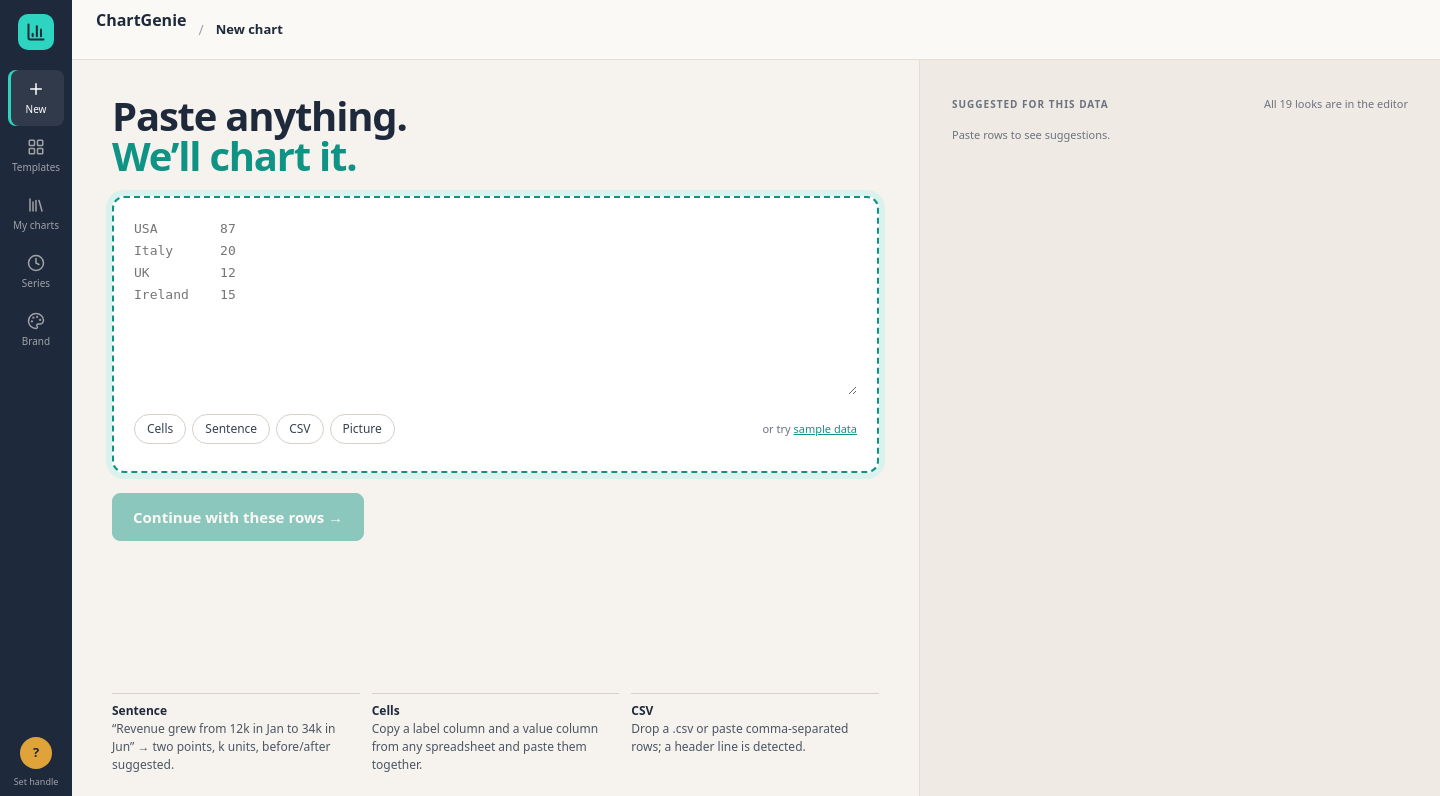
Test: Intake (desktop) › shows guidance without rows and fills the sample on request
The width and height of the screenshot is (1440, 796).
Expected: the text "Paste rows to see suggestions." is shown, 952,126 -> 1110,142
Click the button "sample data". click: coordinates (825, 429)
box: 794,407 -> 857,451
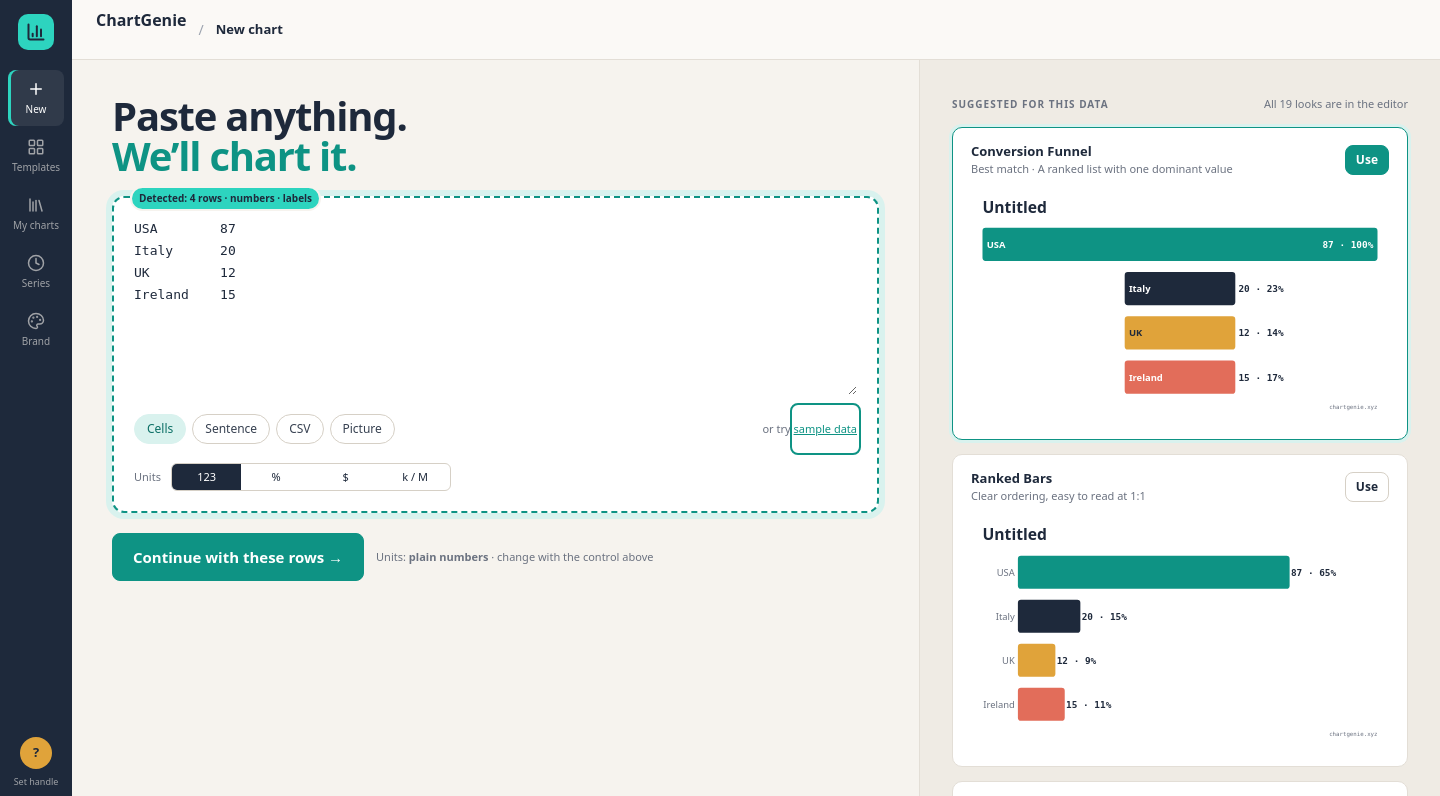
Expected: the text "Detected: 4 rows · numbers · labels" is shown, 130,186 -> 321,211
